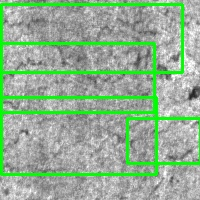crazing: (1, 4, 182, 72), (1, 97, 156, 174), (1, 43, 154, 112), (127, 118, 200, 163)
